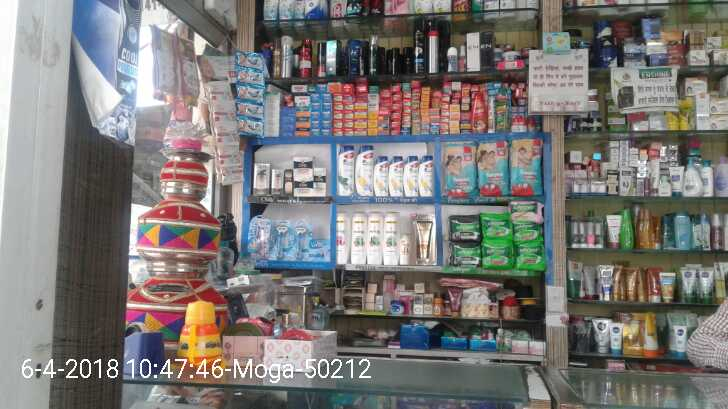venus: (249, 215, 268, 257), (269, 220, 289, 258), (291, 219, 306, 261), (308, 238, 329, 262)
